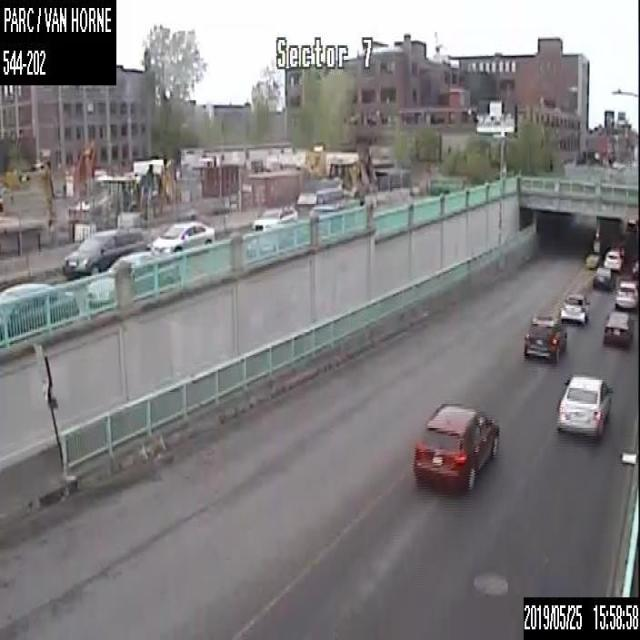vehicle: (412, 402, 499, 494), (86, 249, 181, 311), (0, 280, 78, 343), (64, 226, 146, 278), (554, 373, 612, 439), (151, 220, 214, 259), (247, 221, 310, 257), (523, 314, 567, 364), (252, 204, 298, 231), (602, 310, 633, 347), (559, 293, 589, 324), (614, 279, 638, 311), (592, 265, 615, 290), (603, 249, 624, 272), (631, 260, 639, 278)
